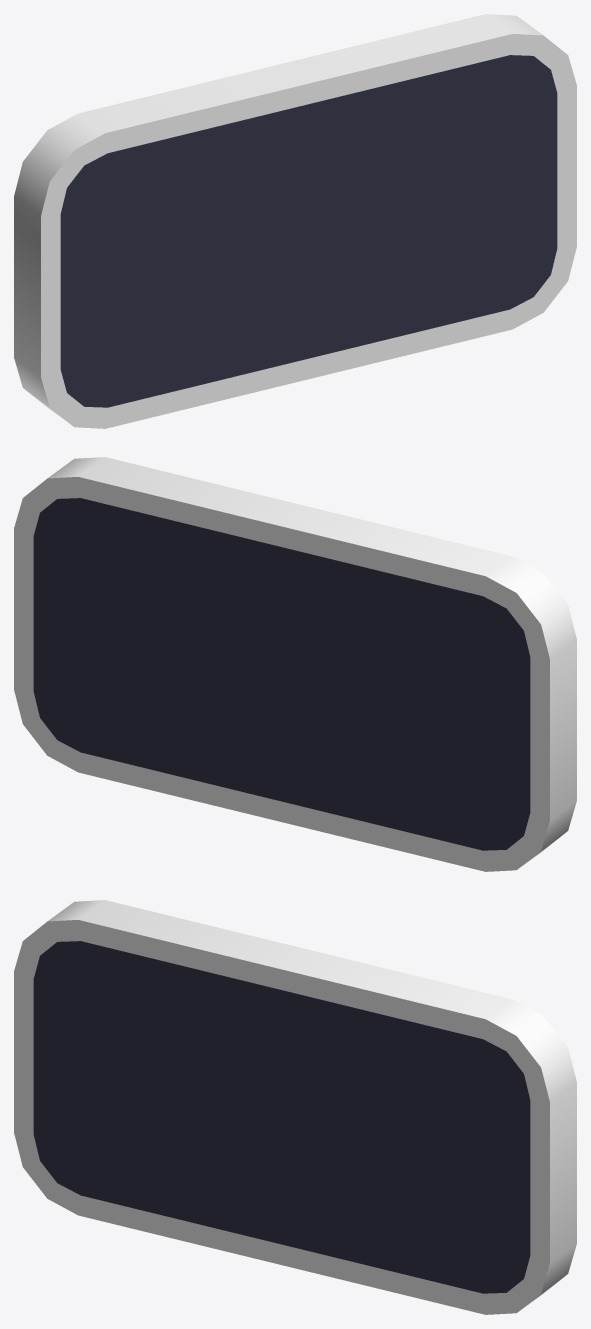
The model's file is VıpBox.fbx.
3 views of the same model, one above another, from view 1: azimuth 30°, elevation 25°; view 2: azimuth 150°, elevation 25°; view 3: azimuth 330°, elevation 25° (orthographic).
Visible parts, largest first — view 1: VıpBpx; view 2: VıpBpx; view 3: VıpBpx.
Part boxes in pixels (box(x1,y1,x2,y2)): VıpBpx: box(14, 14, 576, 428); VıpBpx: box(14, 457, 576, 871); VıpBpx: box(14, 900, 576, 1314).
Size of the model in its own units: 123 by 65.08 by 10.77.
